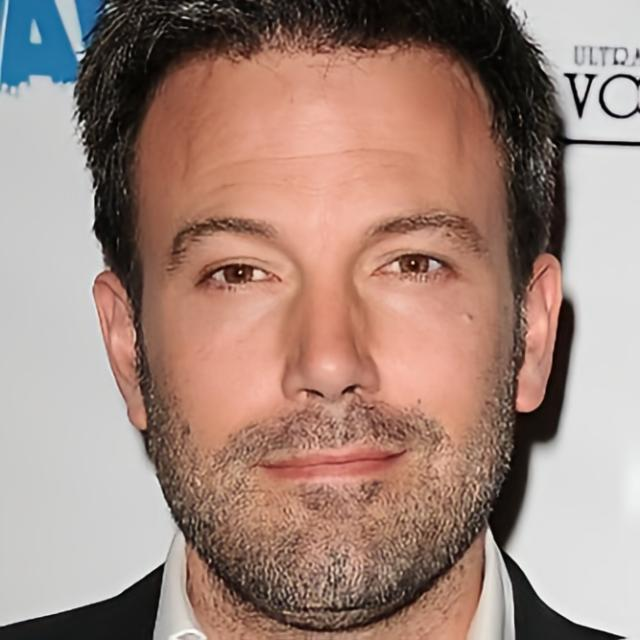content: (138, 34, 520, 616)
